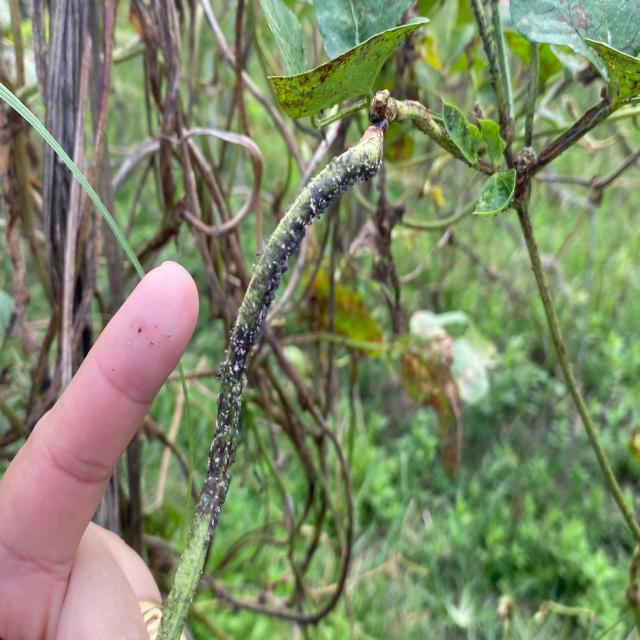sitaw-aphid-moderate: (159, 103, 392, 640)
